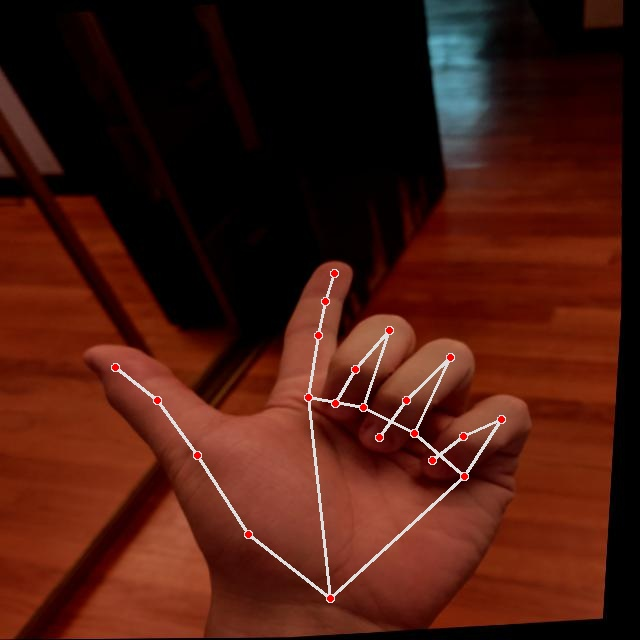L: (58, 238, 570, 638)
